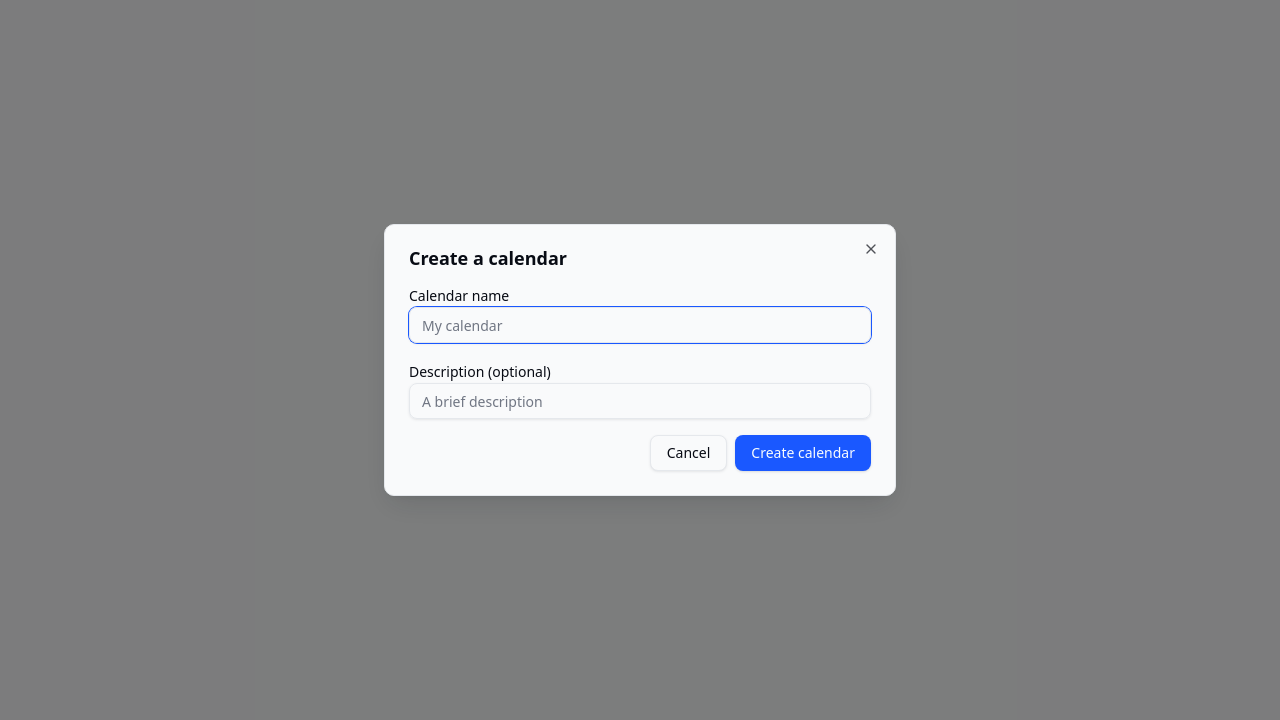
Test case: CreateCalendarDialog › zod validation › does not submit with an empty name
Step 1. Click the button "Create calendar" → (803, 453), box [735,435,871,471]
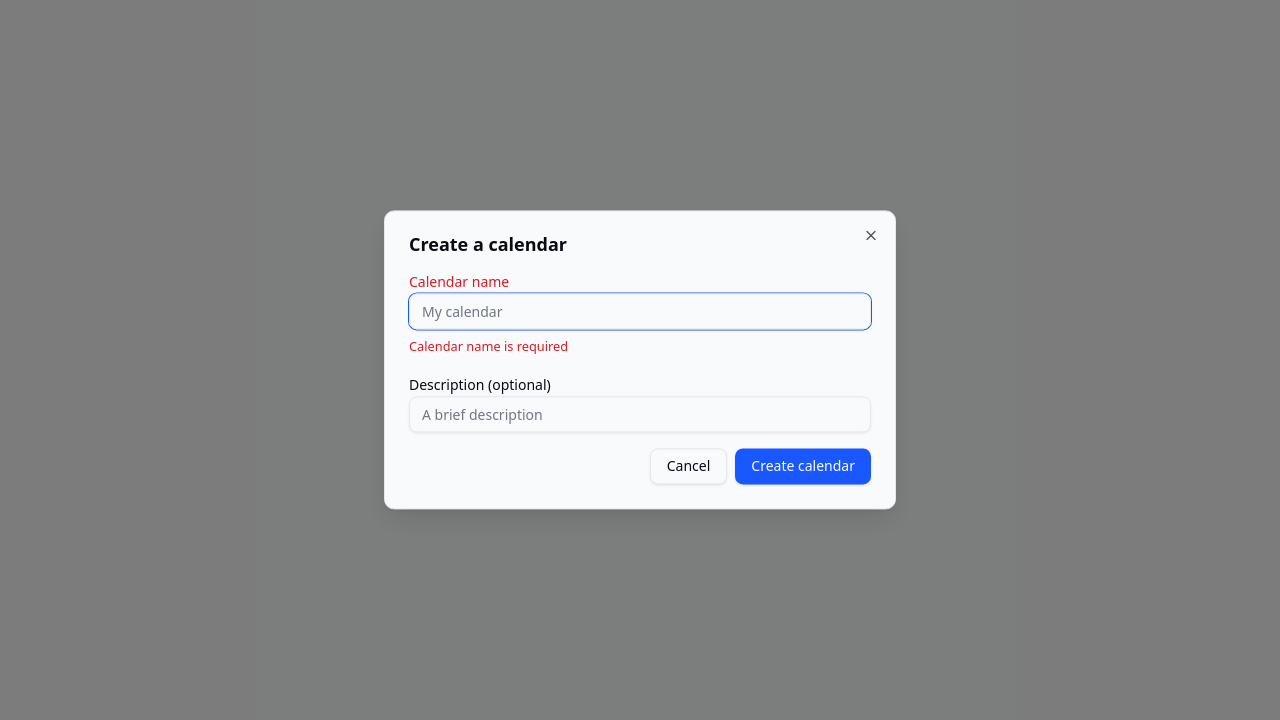
Check: the text "Calendar name is required" is shown, box [409,337,568,355]
